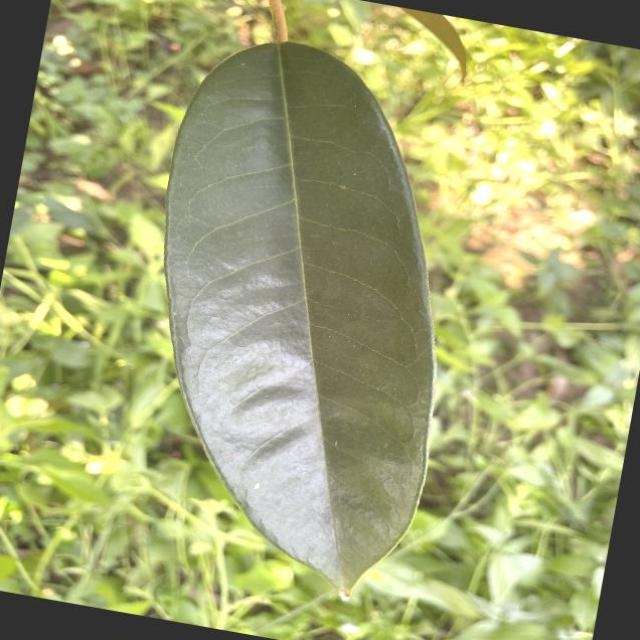No Disease: (88, 9, 510, 619)
